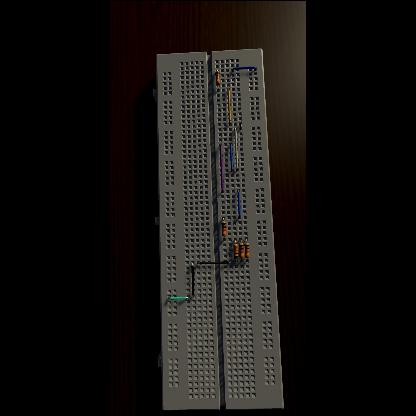breadboard: (154, 48, 284, 410)
resistor: (244, 242, 250, 256), (233, 242, 238, 258), (240, 242, 245, 258), (221, 221, 226, 236), (216, 70, 220, 84)
wire: (220, 144, 224, 192), (228, 87, 232, 124), (198, 260, 232, 264), (235, 128, 238, 170), (230, 143, 234, 171), (232, 66, 256, 70), (237, 189, 240, 217), (169, 295, 189, 299), (192, 262, 194, 296), (240, 122, 242, 130), (234, 238, 236, 242), (240, 238, 242, 242), (245, 238, 247, 242), (222, 218, 224, 221), (224, 235, 226, 238), (235, 258, 236, 262), (246, 258, 248, 260), (242, 258, 243, 260)
